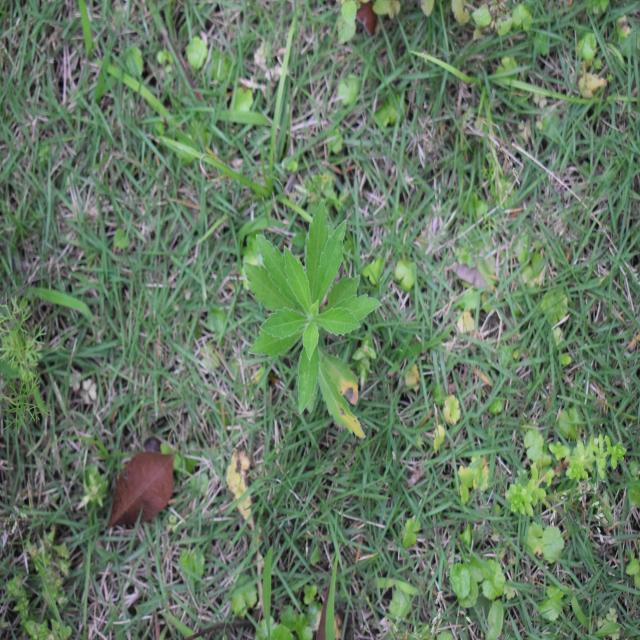horseweed: (239, 220, 374, 416)
